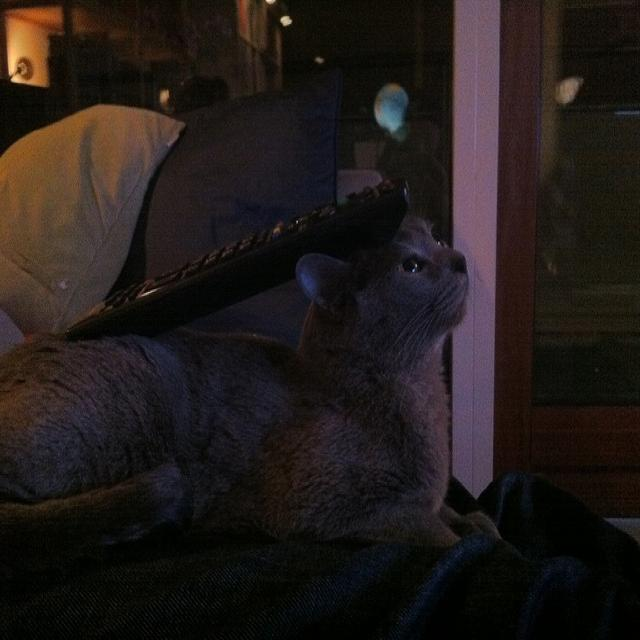Cat: (2, 192, 526, 577)
